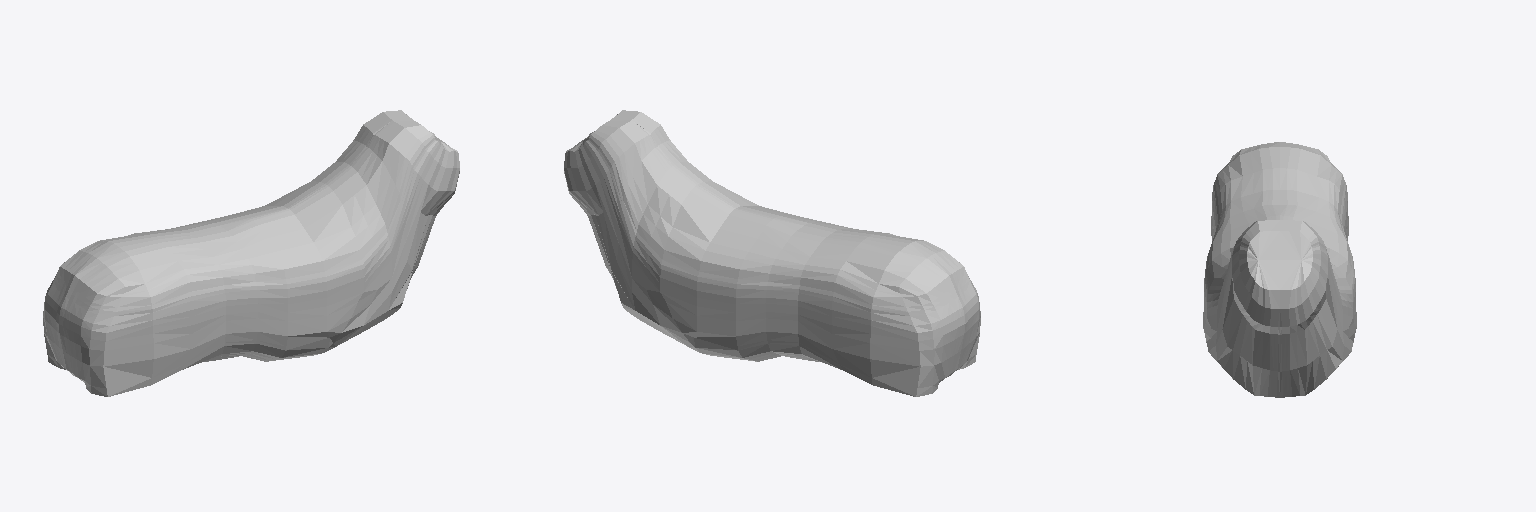
Rendered from body_smooth.obj.
3 views of the same model, side by side, from view 1: azimuth 30°, elevation 25°; view 2: azimuth 150°, elevation 25°; view 3: azimuth 270°, elevation 25° (orthographic).
Visible parts, largest first — view 1: dog_Cube.001; view 2: dog_Cube.001; view 3: dog_Cube.001.
Part boxes in pixels (left/top/right/bottom): dog_Cube.001: left=43, top=110, right=459, bottom=396; dog_Cube.001: left=564, top=110, right=980, bottom=396; dog_Cube.001: left=1203, top=142, right=1356, bottom=397.
Bounding box in the file's own units: 4.3 × 2.13 × 1.45.